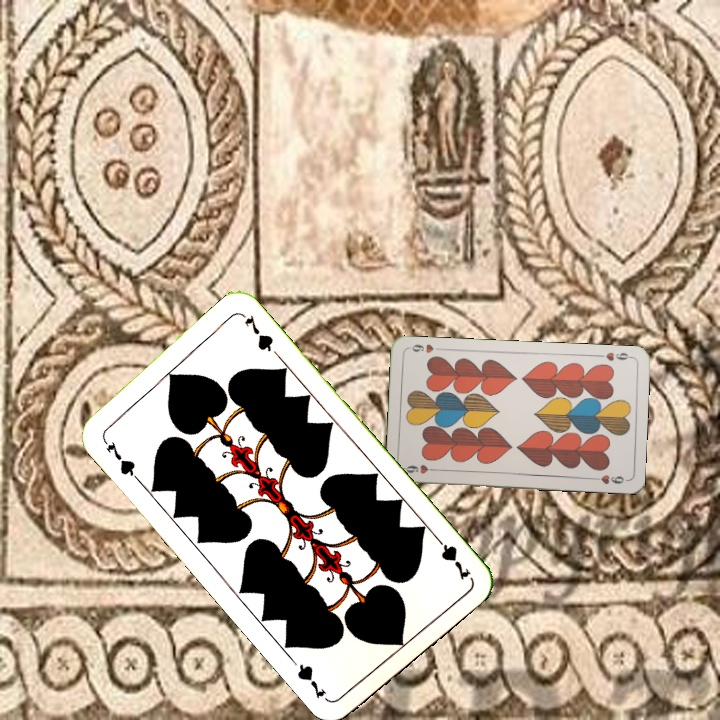G7: (429, 531, 473, 583), (98, 433, 141, 483)
H9: (400, 460, 441, 476), (594, 348, 634, 364)
